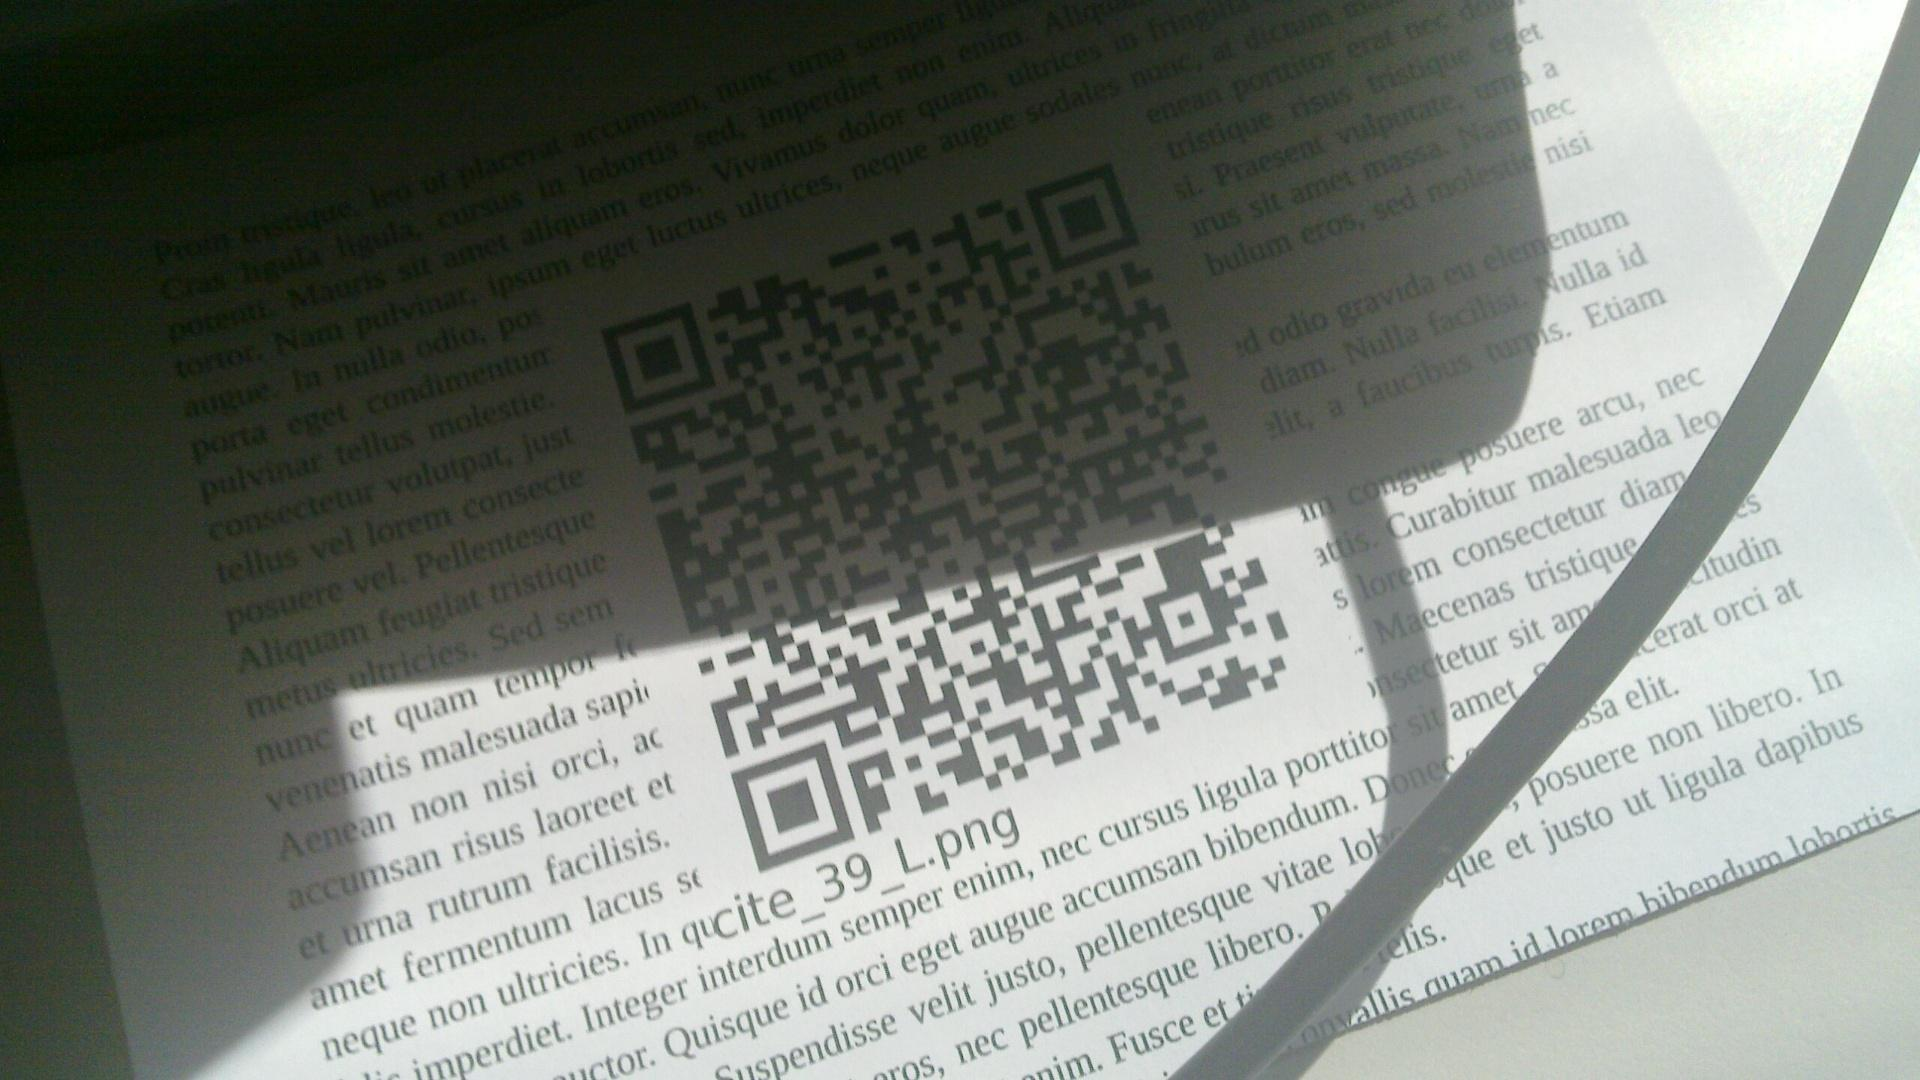Finder pattern: (731, 742, 853, 868), (595, 301, 717, 411), (1022, 160, 1138, 276)
